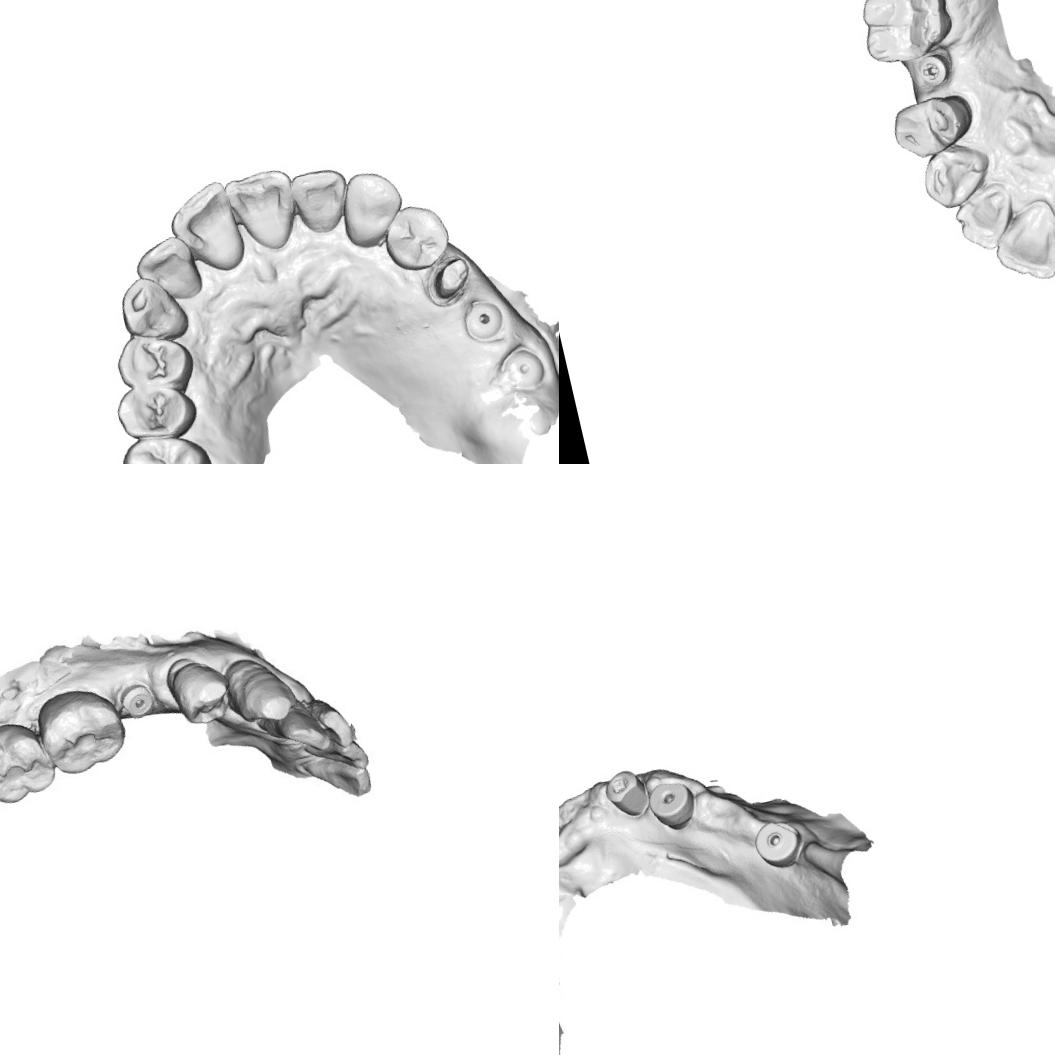canine: (332, 164, 411, 253), (914, 136, 1000, 214), (113, 268, 192, 350), (225, 649, 296, 731)
crown: (421, 250, 477, 306)
implant: (748, 813, 806, 871), (645, 776, 699, 832), (600, 766, 652, 823), (111, 673, 162, 726), (460, 294, 508, 348), (498, 346, 546, 394)
implant_plus: (910, 48, 956, 91)
incisor: (160, 176, 250, 282), (224, 163, 306, 258), (985, 199, 1055, 289), (291, 746, 384, 813), (950, 175, 1024, 254), (130, 232, 206, 308), (286, 162, 355, 239), (310, 686, 369, 752), (278, 693, 334, 762), (310, 730, 386, 780)
molar: (36, 686, 129, 779), (850, 0, 961, 70), (0, 715, 57, 807), (115, 425, 224, 464)
premolar: (883, 88, 980, 166), (108, 372, 203, 448), (111, 325, 196, 397), (379, 198, 456, 276), (164, 651, 235, 731)
